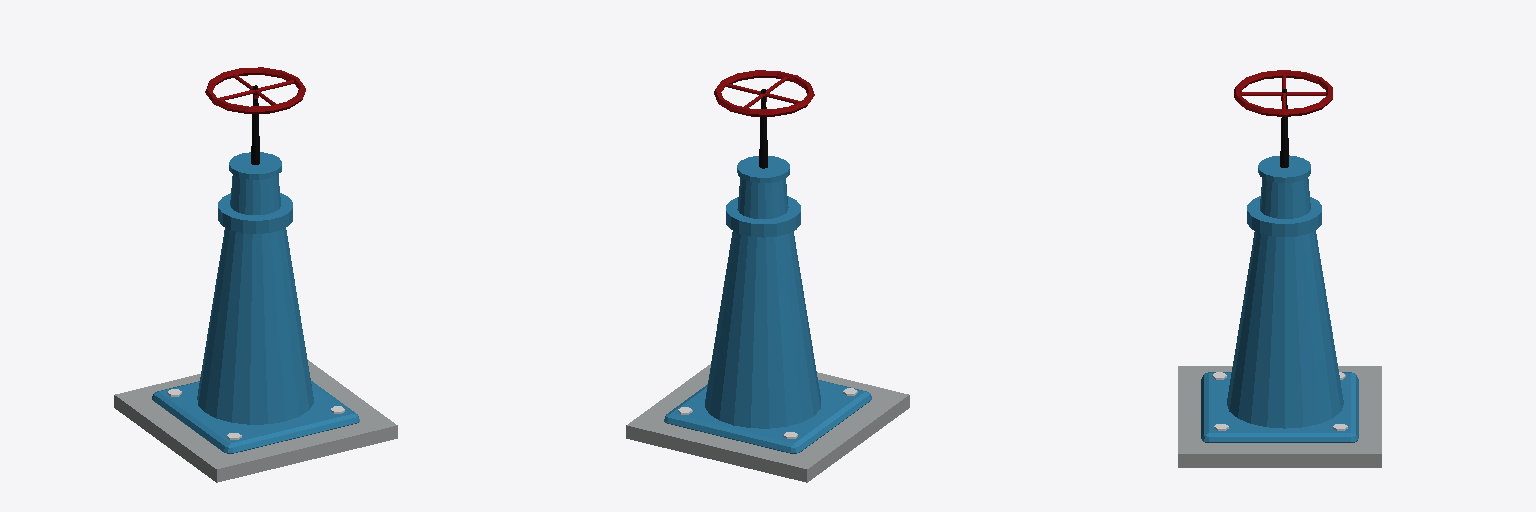
Rendered from manual_valve.obj.
3 views of the same model, side by side, from view 1: azimuth 30°, elevation 25°; view 2: azimuth 150°, elevation 25°; view 3: azimuth 270°, elevation 25° (orthographic).
Visible parts, largest first — view 1: __, ___, ___.3, __.2, __.1, __.3; view 2: __, ___, ___.3, __.1, __.2, __.3; view 3: __, ___, ___.3, __.2, __.1, __.3.
Part boxes in pixels (bbox=[...]): __: bbox=[167, 67, 313, 424]; ___: bbox=[114, 359, 397, 482]; ___.3: bbox=[152, 381, 359, 453]; __.2: bbox=[230, 174, 344, 413]; __.1: bbox=[218, 193, 292, 233]; __.3: bbox=[227, 152, 281, 439]; __: bbox=[705, 70, 820, 438]; ___: bbox=[626, 364, 909, 482]; ___.3: bbox=[664, 380, 871, 453]; __.1: bbox=[678, 196, 800, 414]; __.2: bbox=[737, 178, 788, 218]; __.3: bbox=[737, 156, 857, 395]; __: bbox=[1227, 70, 1345, 428]; ___: bbox=[1178, 366, 1381, 467]; ___.3: bbox=[1201, 372, 1358, 442]; __.2: bbox=[1214, 178, 1310, 430]; __.1: bbox=[1247, 196, 1347, 430]; __.3: bbox=[1212, 155, 1310, 379].
Size of the model in its own units: 204 by 360 by 199.